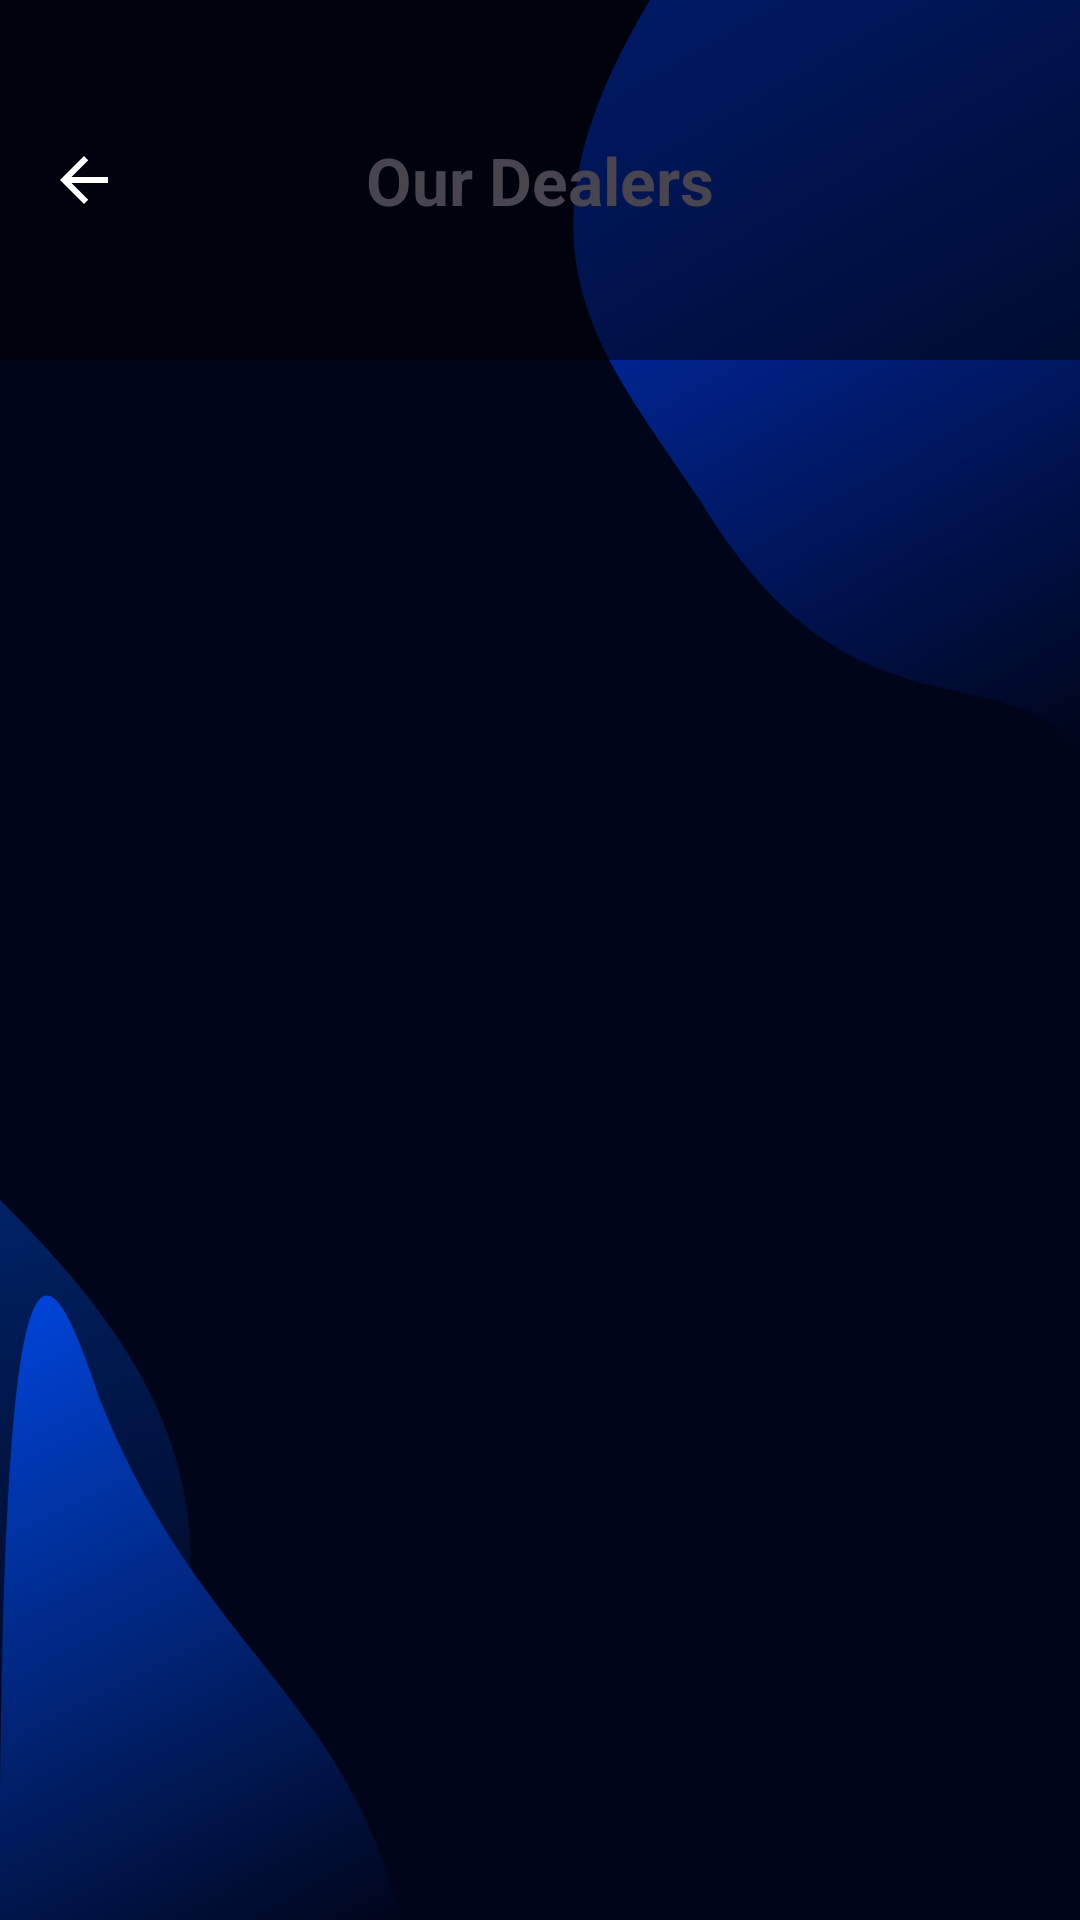

Named icons in this screenshot (1080 x 1920) and their centers, point (x, y):
back: point (84, 180)
